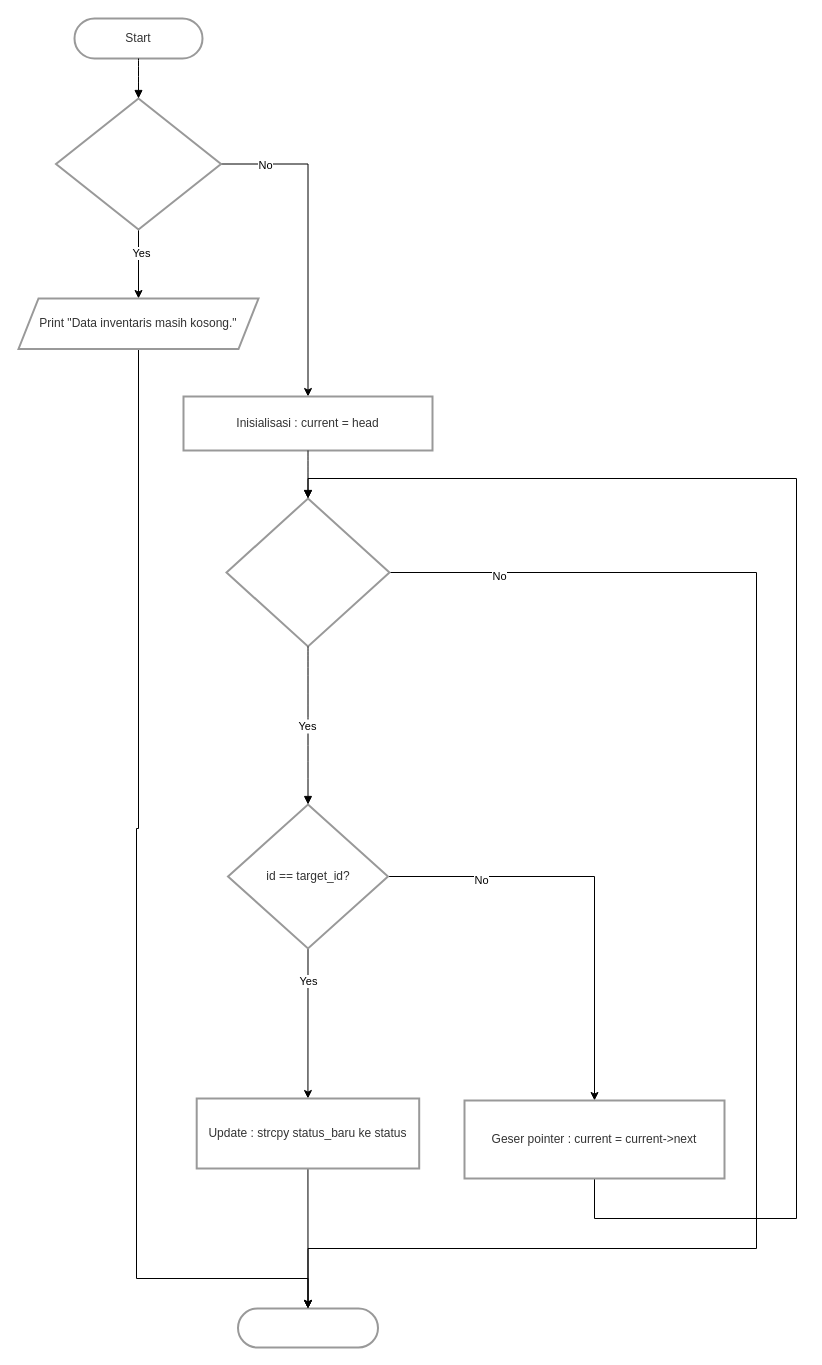
This 822x1365 diagram has some shape labels left out. Each missing label, with the box of its shape:
current != NULL?: (225, 497, 390, 647)
End / Return: (236, 1307, 378, 1348)
head == NULL?: (54, 97, 222, 230)
